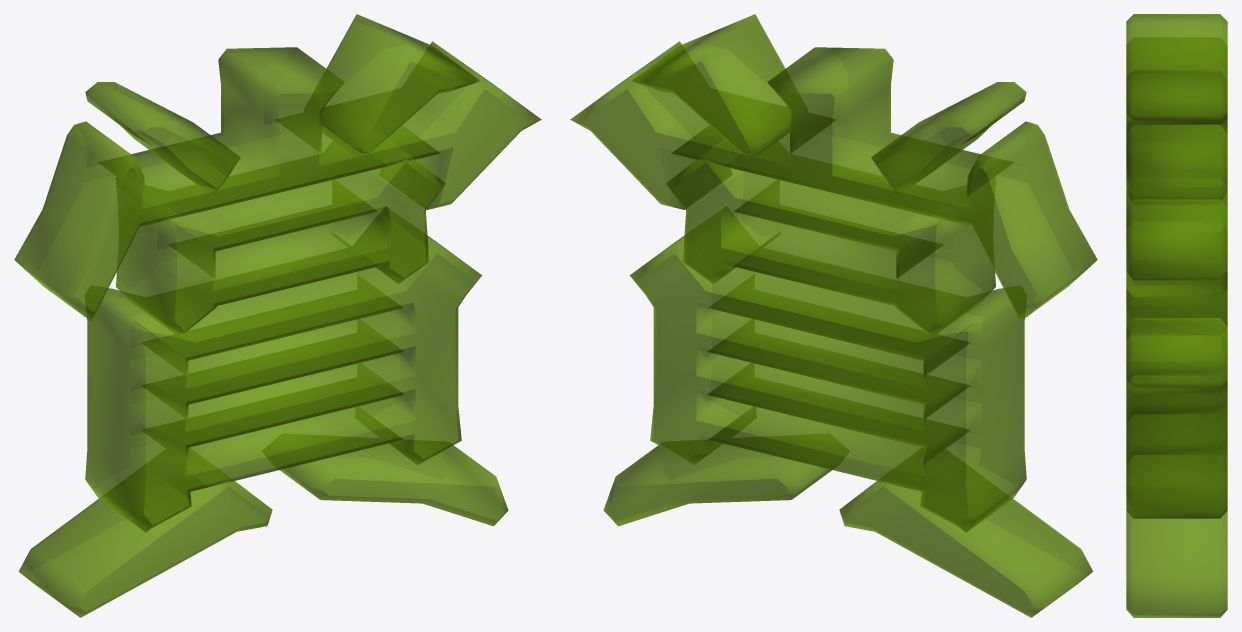
The model's file is quest08.glb.
3 renders of one model, left to right at view 1: azimuth 30°, elevation 25°; view 2: azimuth 150°, elevation 25°; view 3: azimuth 270°, elevation 25°, orthographic. The views are drawn at different scales.
Visible parts, largest first — view 1: Text.008; view 2: Text.008; view 3: Text.008.
Part boxes in pixels (<box>): Text.008: <box>14,14,541,617</box>; Text.008: <box>570,14,1097,617</box>; Text.008: <box>1126,14,1227,617</box>.
Size of the model in its own units: 0.6973 by 0.6932 by 0.14.
